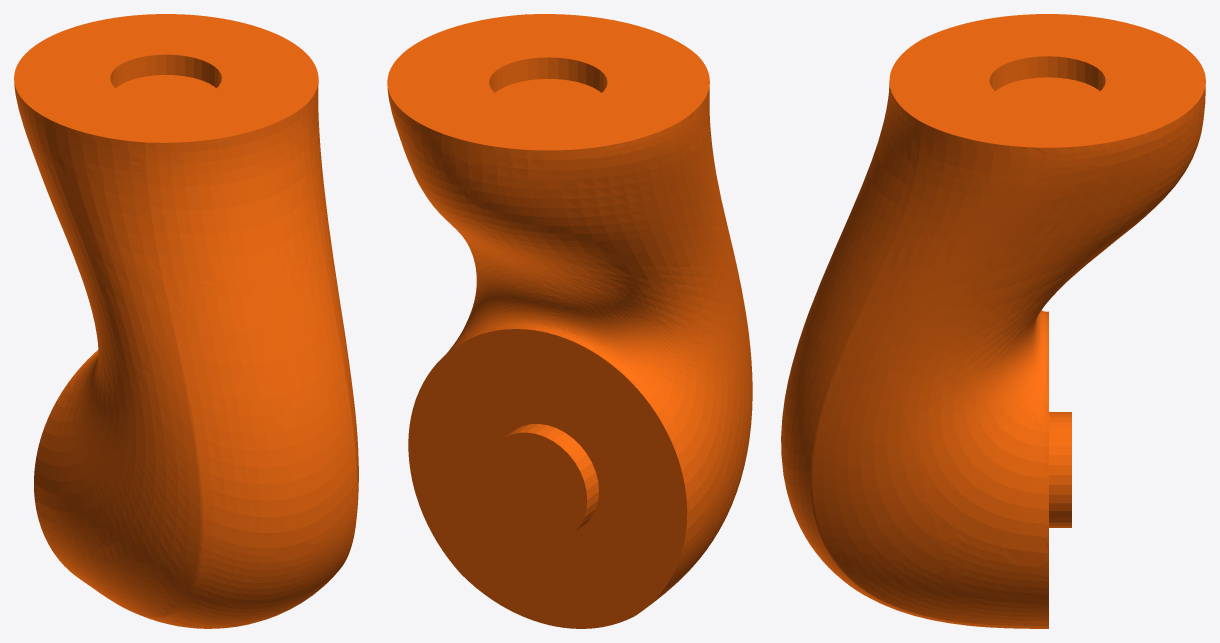
The model's file is iiwa_link_4_visuals_link_4_mesh.obj.
3 renders of one model, left to right at view 1: azimuth 30°, elevation 25°; view 2: azimuth 150°, elevation 25°; view 3: azimuth 270°, elevation 25°, orthographic. The views are drawn at different scales.
Size of the model in its own units: 0.136 by 0.2525 by 0.1826.
